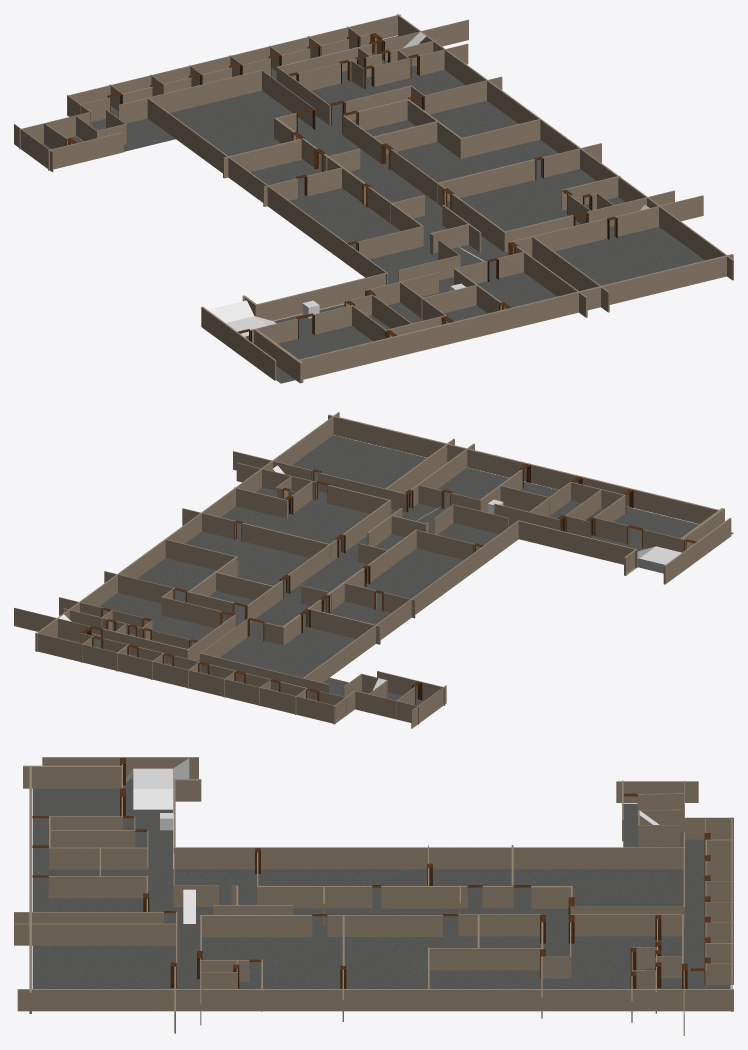
File: lower.glb
3 views of the same model, one above another, from view 1: azimuth 30°, elevation 25°; view 2: azimuth 150°, elevation 25°; view 3: azimuth 270°, elevation 25° (orthographic). The views are drawn at different scales.
Visible parts, largest first — view 1: Cube.087, Floor, Doors, Plane; view 2: Cube.087, Floor, Doors, Plane; view 3: Cube.087, Floor, Doors, Plane.
Boxes of the visible parts, x1=… form: Cube.087: x1=14, y1=14, x2=733, y2=383; Floor: x1=42, y1=36, x2=704, y2=383; Doors: x1=66, y1=33, x2=617, y2=341; Plane: x1=208, y1=300, x2=276, y2=337; Cube.087: x1=14, y1=412, x2=731, y2=728; Floor: x1=57, y1=435, x2=733, y2=722; Doors: x1=81, y1=464, x2=696, y2=704; Plane: x1=637, y1=546, x2=681, y2=564; Cube.087: x1=14, y1=757, x2=733, y2=1035; Floor: x1=32, y1=779, x2=730, y2=988; Doors: x1=32, y1=758, x2=710, y2=988; Plane: x1=126, y1=758, x2=189, y2=809.
Size of the model in its own units: 51.61 by 2.03 by 60.99.
3 materials, 3 textured.
